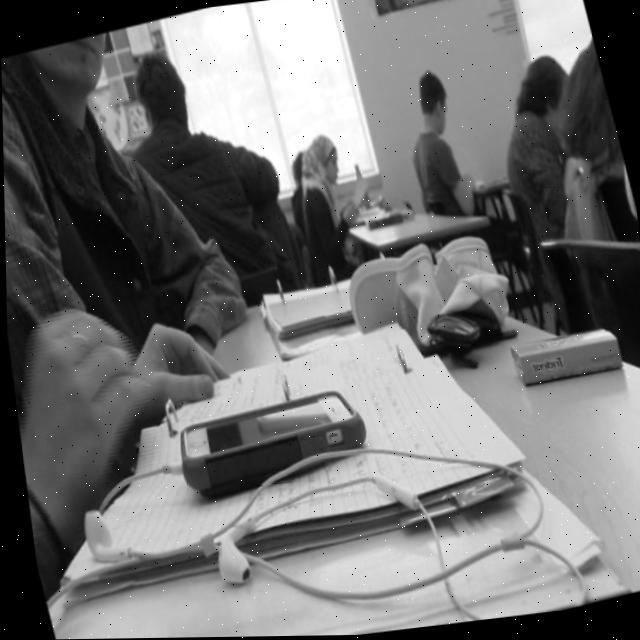phone: (166, 379, 375, 505)
